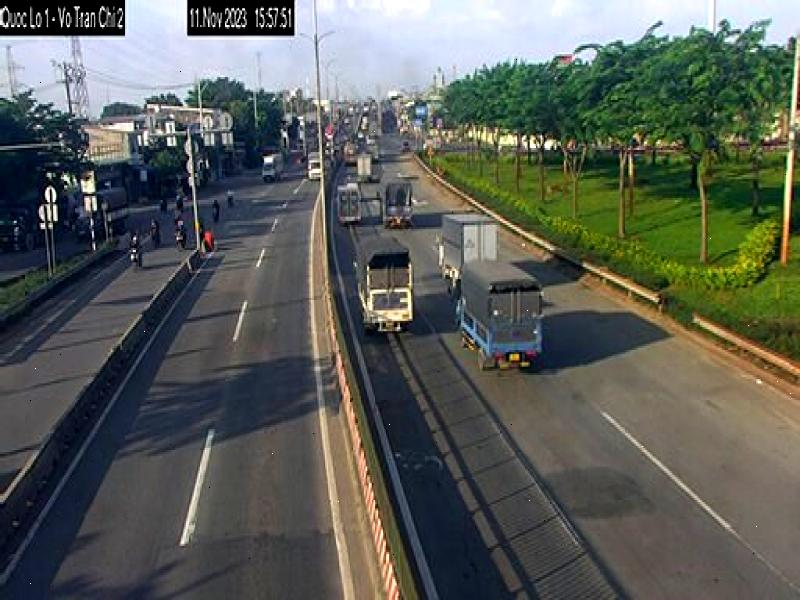truck: (454, 258, 545, 371), (354, 229, 416, 334), (435, 208, 499, 288), (378, 176, 414, 230), (336, 180, 364, 223)
